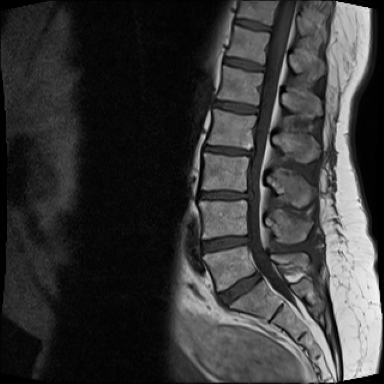Lumbar Disc Bulge (LDB): (195, 223, 256, 259), (186, 180, 256, 206), (197, 138, 258, 160)
Normal IVD: (210, 267, 265, 311), (204, 95, 263, 116), (214, 52, 266, 75), (228, 16, 271, 35)
Spinal Stenosis (SS): (239, 184, 255, 206), (240, 230, 255, 252), (242, 144, 259, 160)
